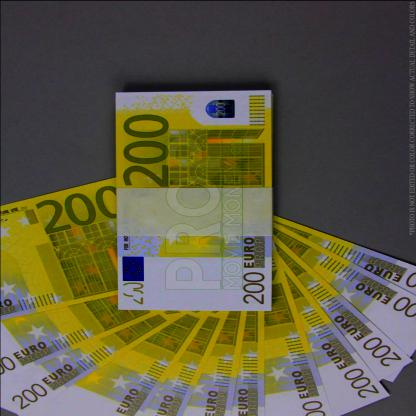euro_banknote: (86, 125, 305, 280), (14, 190, 134, 304), (214, 293, 388, 364), (241, 292, 416, 349), (6, 301, 167, 357)
